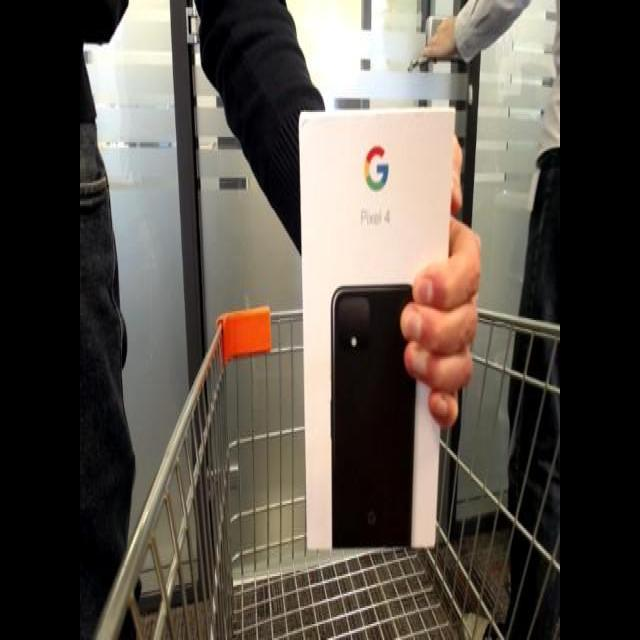Pixel 4: (298, 90, 472, 559)
